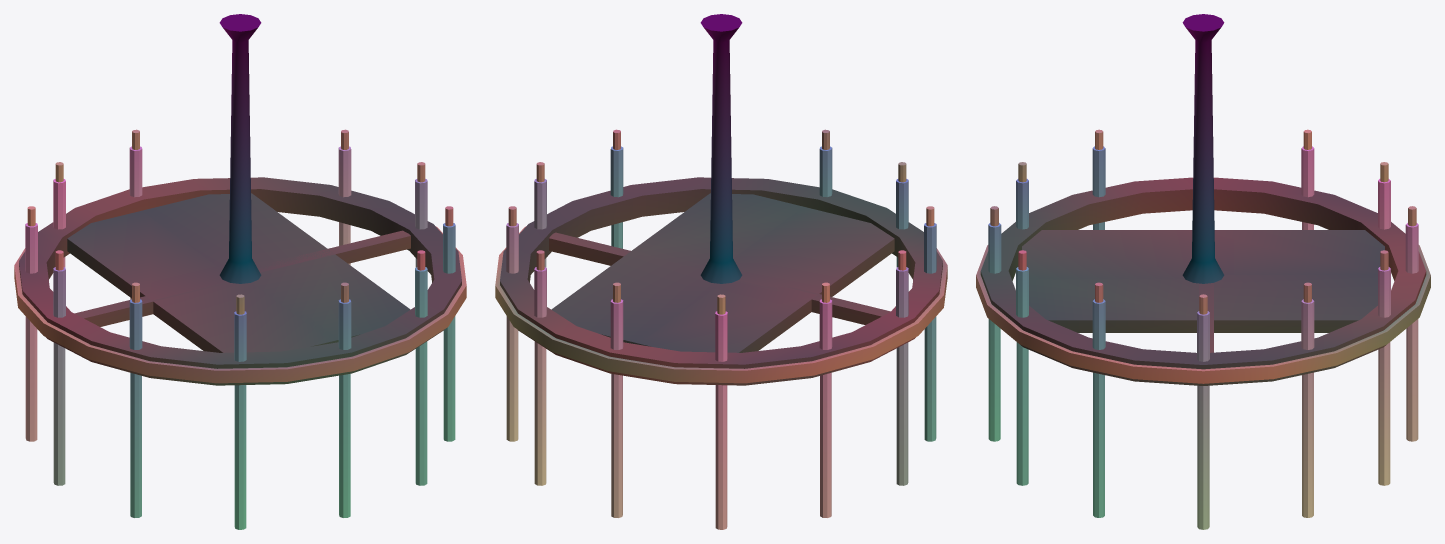
File: wax_wheel.glb
3 renders of one model, left to right at view 1: azimuth 30°, elevation 25°; view 2: azimuth 150°, elevation 25°; view 3: azimuth 270°, elevation 25°, orthographic.
Visible parts, largest first — view 1: wheel_spokes, wheel_rim, wheel_tapers, wheel_brass_band, wheel_chain, wheel_flame; view 2: wheel_spokes, wheel_rim, wheel_tapers, wheel_brass_band, wheel_chain, wheel_flame; view 3: wheel_spokes, wheel_rim, wheel_tapers, wheel_brass_band, wheel_chain, wheel_flame.
Boxes of the visible parts, box(x1,y1,x2,y2) form: wheel_spokes: box(67, 193, 410, 352); wheel_rim: box(19, 177, 461, 385); wheel_tapers: box(25, 146, 455, 529); wheel_brass_band: box(14, 226, 466, 383); wheel_chain: box(219, 14, 261, 283); wheel_flame: box(27, 129, 453, 314); wheel_spokes: box(549, 193, 894, 352); wheel_rim: box(500, 177, 942, 385); wheel_tapers: box(506, 146, 936, 529); wheel_brass_band: box(495, 226, 947, 383); wheel_chain: box(700, 14, 742, 283); wheel_flame: box(508, 129, 934, 314); wheel_spokes: box(1022, 230, 1384, 352); wheel_rim: box(980, 177, 1426, 385); wheel_tapers: box(988, 146, 1418, 529); wheel_brass_band: box(976, 245, 1430, 383); wheel_chain: box(1182, 14, 1224, 283); wheel_flame: box(990, 129, 1416, 314).
Bounding box in the file's own units: 1.96 × 1.98 × 1.96.
